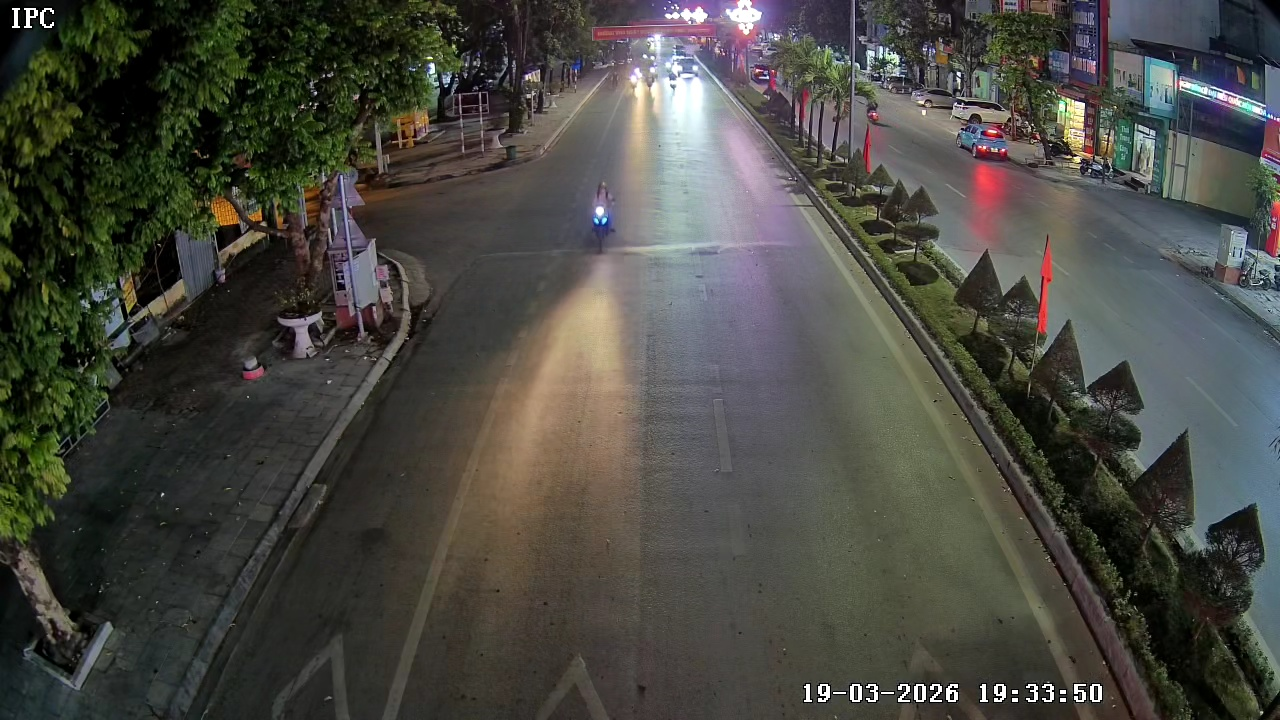motorbike: (582, 172, 624, 253)
